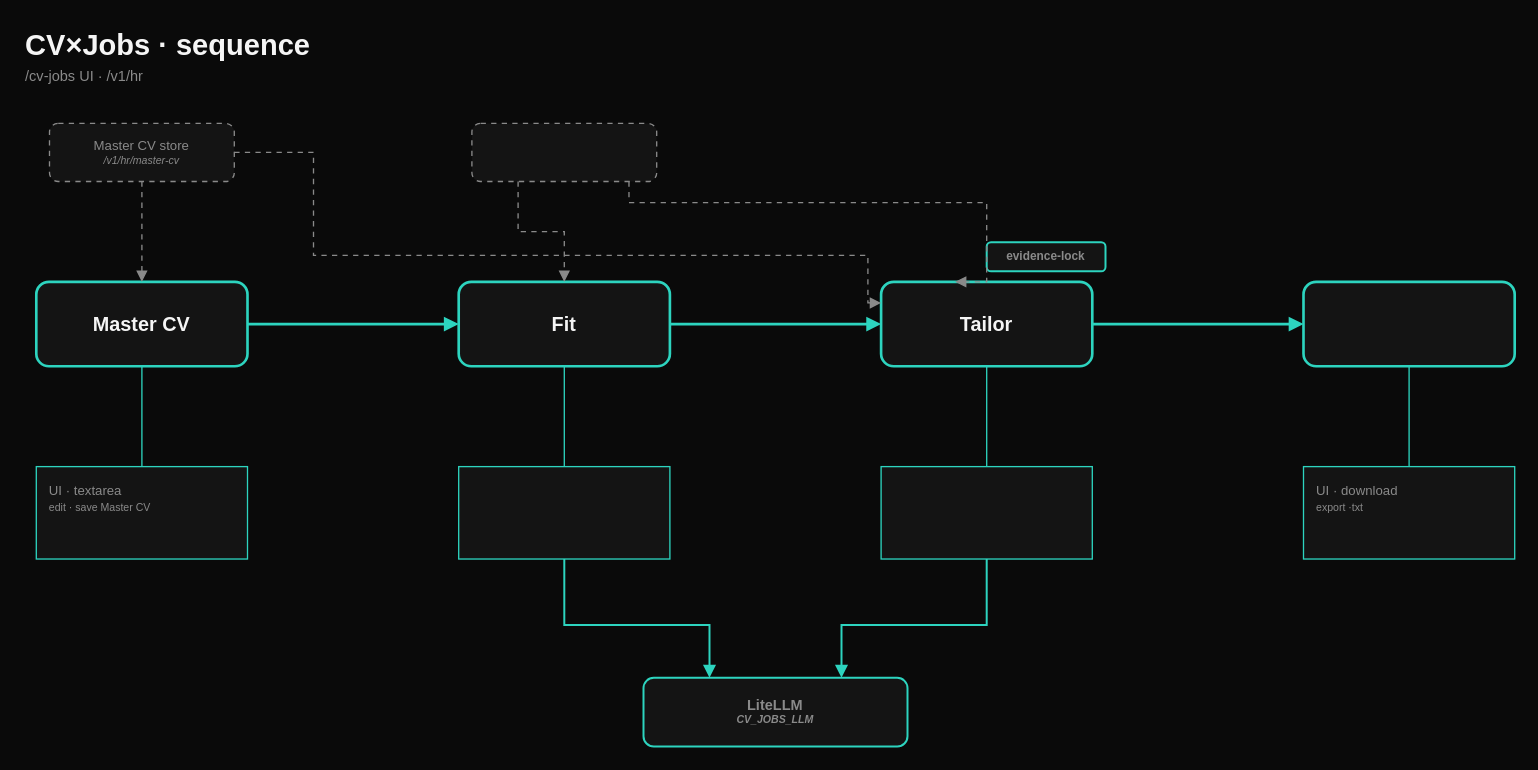
Some shapes in this 1538 by 770 pixel diagram are drawn without their labels. The centre of each missing label's shape, as x and y in pixels:
"job inbox /v1/hr/jobs" belongs at pixel 564 152.
"TXT" belongs at pixel 1408 323.
"UI · Fit score card FitReport vs job" belongs at pixel 563 512.
"UI · Tailored preview editable · soft-warn" belongs at pixel 986 512.
